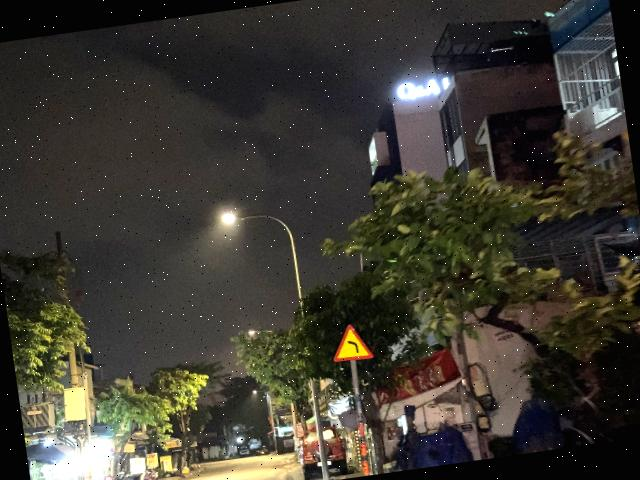cho-ngoat-nguy-hiem-ben-trai: (330, 322, 374, 363)
